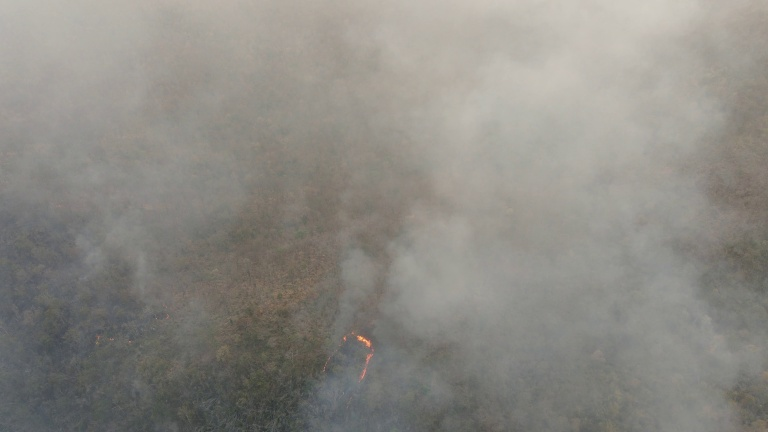fire: (318, 331, 378, 379), (91, 313, 167, 349)
smoke: (296, 2, 768, 432), (2, 1, 293, 273)
